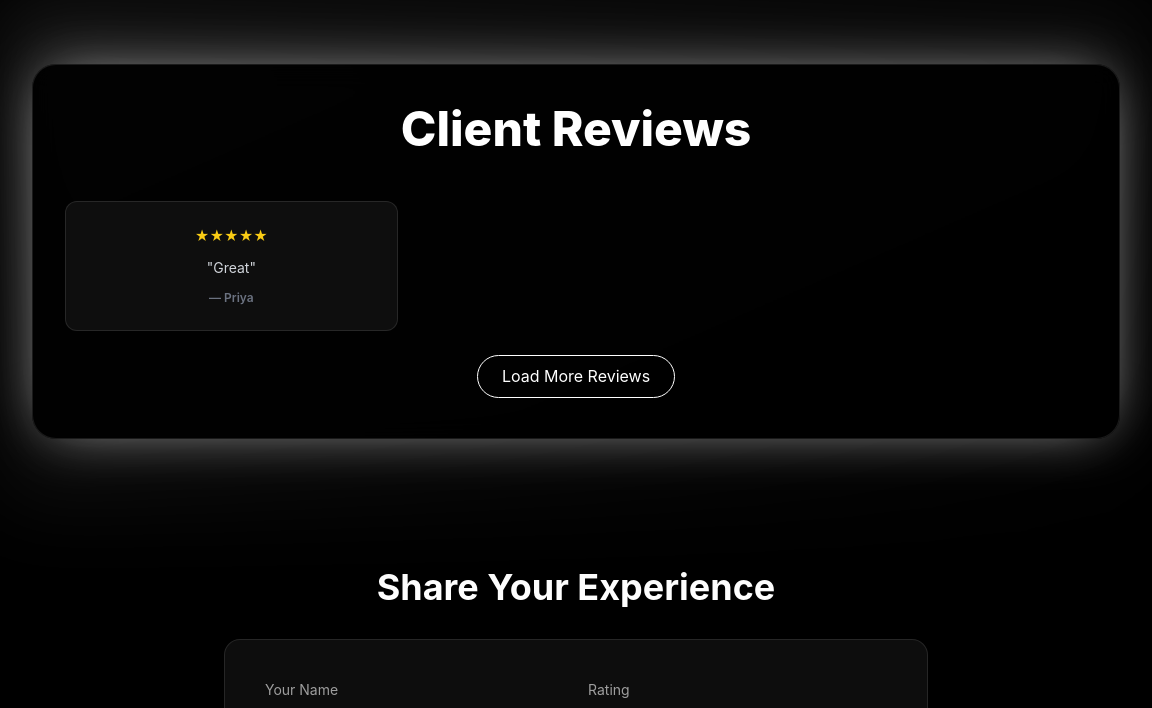
Test: clicking Load More fetches the next page and appends results
Expected: the text "— Priya" is shown, [209,290,254,305]
Click the button "Load More Reviews". click: (576, 376)
box: [477,355,675,398]
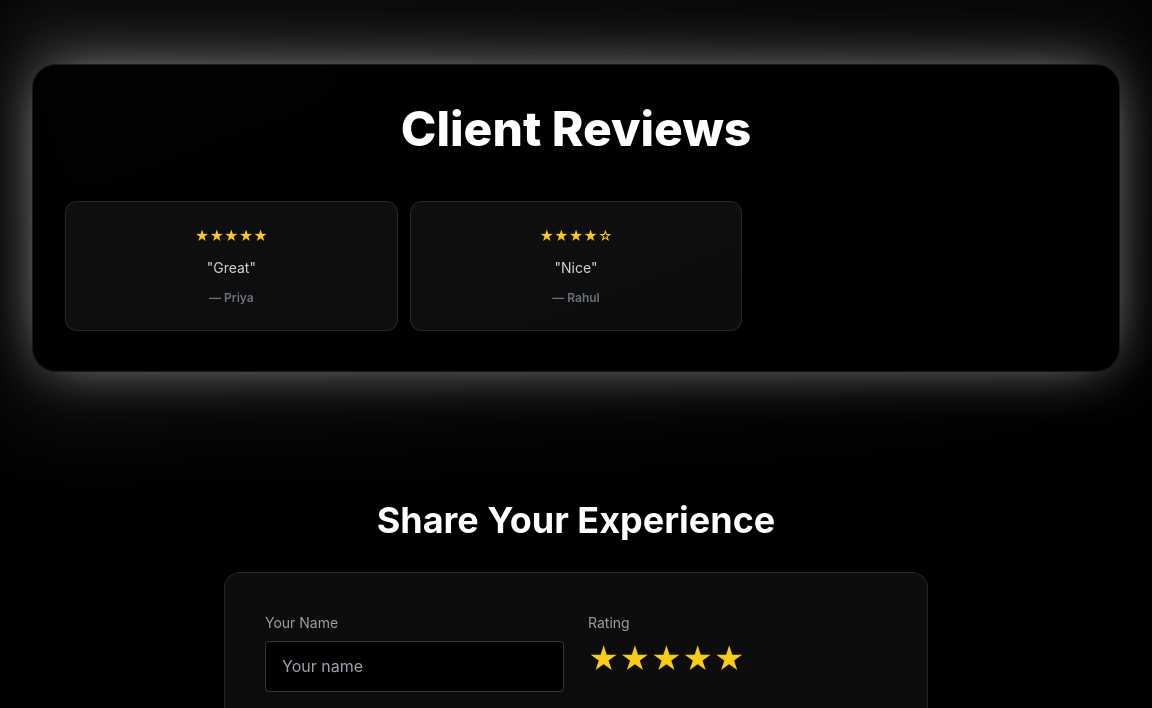
Result: the text "— Rahul" is shown at [552,290,600,305]
